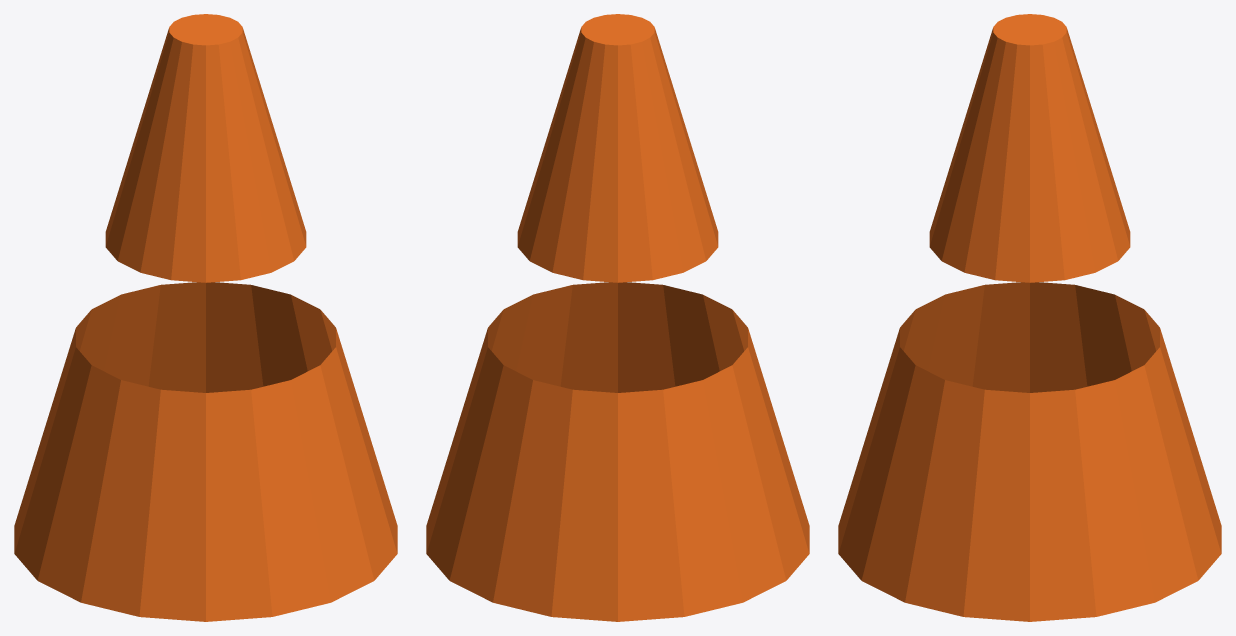
File: HomebaseTrafficCone_LOD00.gltf
3 views of the same model, side by side, from view 1: azimuth 30°, elevation 25°; view 2: azimuth 150°, elevation 25°; view 3: azimuth 270°, elevation 25° (orthographic).
Visible parts, largest first — view 1: HomebaseTrafficCone_node; view 2: HomebaseTrafficCone_node; view 3: HomebaseTrafficCone_node.
Boxes of the visible parts, x1,y1,x2,y2 form: HomebaseTrafficCone_node: [14, 14, 397, 621]; HomebaseTrafficCone_node: [426, 14, 809, 621]; HomebaseTrafficCone_node: [838, 14, 1221, 621].
Bounding box in the file's own units: 0.47 × 0.68 × 0.4629.
